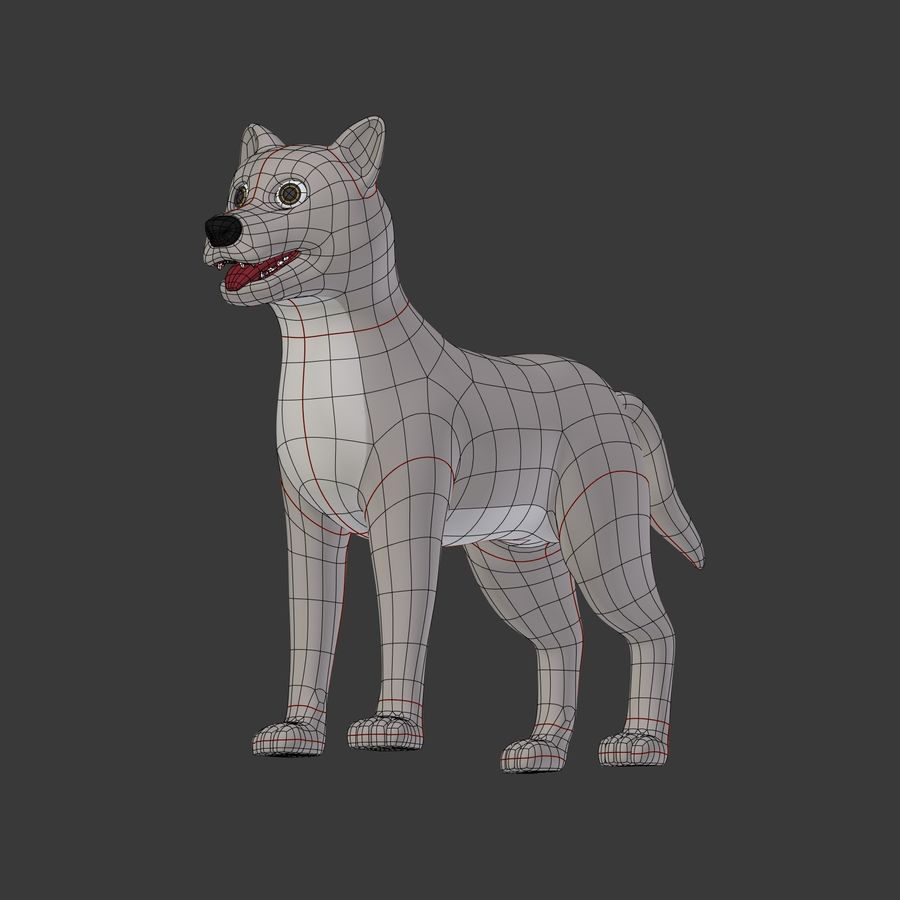Lobo: (163, 119, 746, 790)
